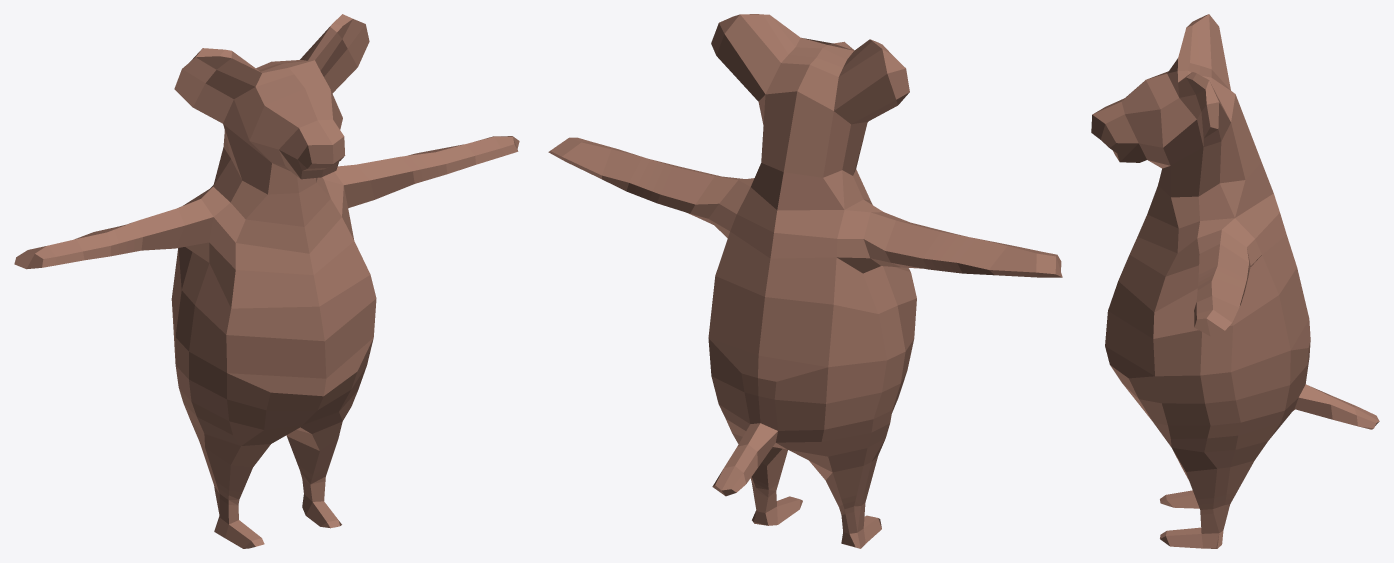
File: Rat_T-pose.fbx
3 renders of one model, left to right at view 1: azimuth 30°, elevation 25°; view 2: azimuth 150°, elevation 25°; view 3: azimuth 270°, elevation 25°, orthographic. The views are drawn at different scales.
Visible parts, largest first — view 1: BSurfaceMesh; view 2: BSurfaceMesh; view 3: BSurfaceMesh.
Boxes of the visible parts, left/top/right/bottom form: BSurfaceMesh: left=14, top=14, right=519, bottom=548; BSurfaceMesh: left=548, top=14, right=1062, bottom=548; BSurfaceMesh: left=1091, top=14, right=1379, bottom=548.
Bounding box in the file's own units: 131 × 122 × 66.55.
